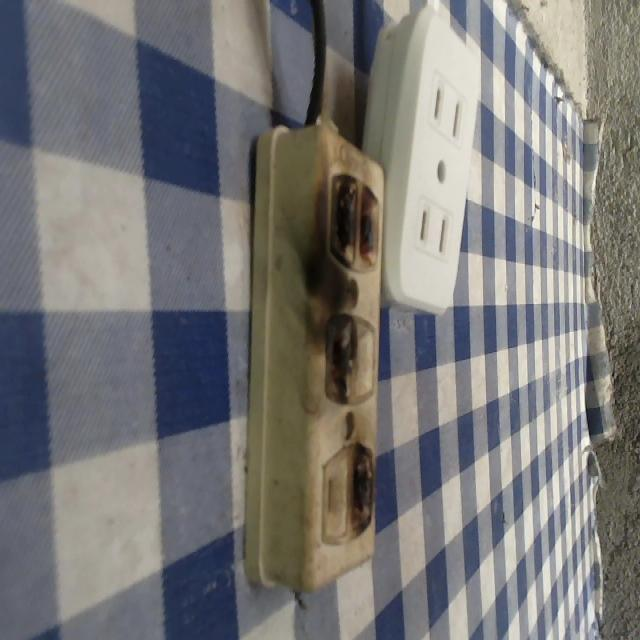-: (324, 168, 386, 276), (315, 309, 361, 412), (347, 437, 381, 532)
